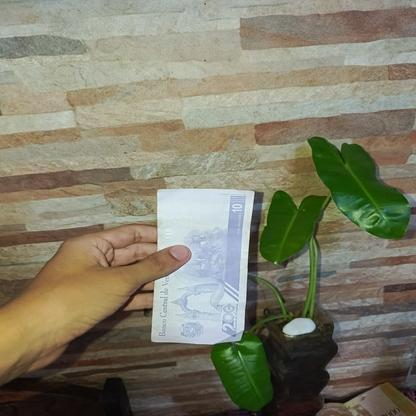ten-back-vef: (152, 189, 256, 342)
